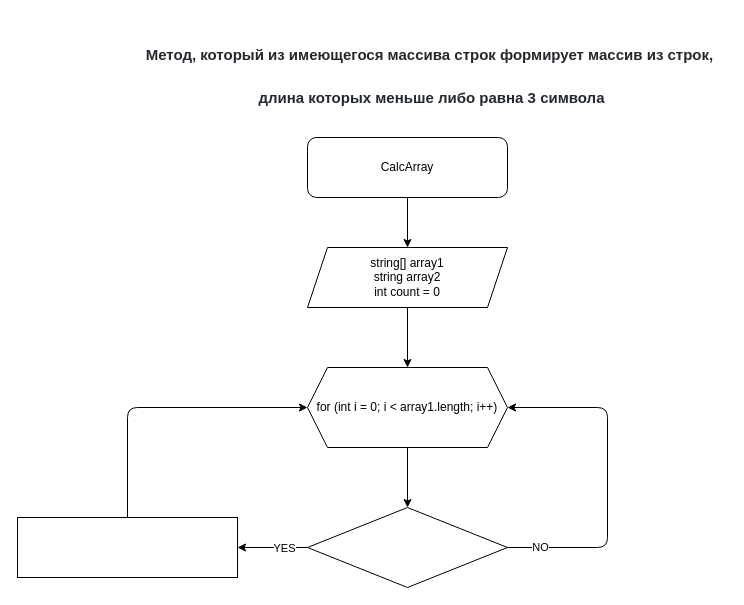
Image size: 744x605. Some labels were removed from this diagram. The shapes that lost their labels are listed below. From the top down, each one's centre as x and y in pixels, then its label:
pixel 127 547: array2[count] = array1[i] count++
pixel 407 547: if (array1[i].length <= 3)
